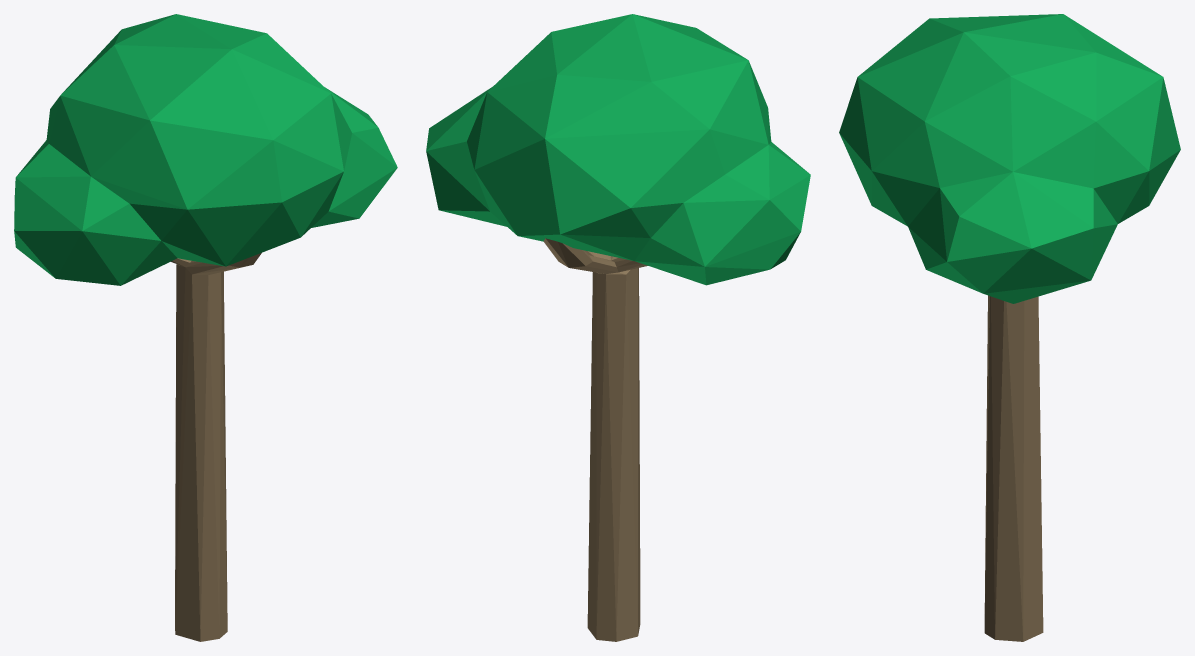
Rendered from tree9.fbx.
3 views of the same model, side by side, from view 1: azimuth 30°, elevation 25°; view 2: azimuth 150°, elevation 25°; view 3: azimuth 270°, elevation 25° (orthographic).
Visible parts, largest first — view 1: treetype9; view 2: treetype9; view 3: treetype9.
Part boxes in pixels (left/top/right/bottom): treetype9: left=14, top=14, right=397, bottom=641; treetype9: left=426, top=14, right=810, bottom=641; treetype9: left=839, top=14, right=1180, bottom=641.
Size of the model in its own units: 130 by 204 by 105.
